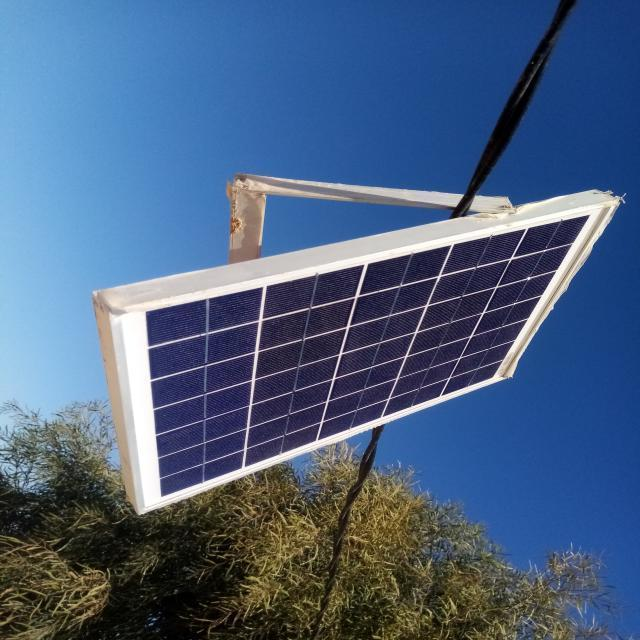Normal Solar Panel: (121, 205, 613, 509)
